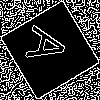A: (25, 25, 78, 70)
